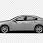car: (1, 14, 43, 33)
